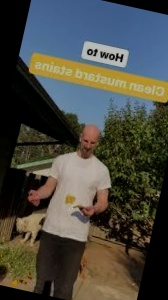mustard: (63, 192, 78, 206)
